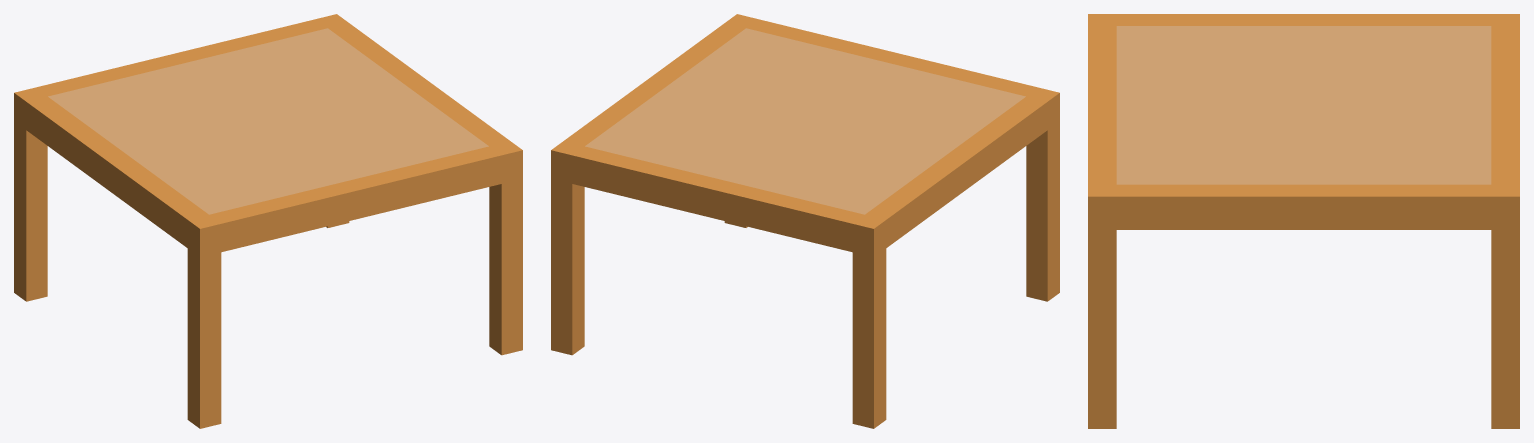
Rendered from Tisch.fbx.
3 renders of one model, left to right at view 1: azimuth 30°, elevation 25°; view 2: azimuth 150°, elevation 25°; view 3: azimuth 270°, elevation 25°, orthographic. The views are drawn at different scales.
Visible parts, largest first — view 1: Cube; view 2: Cube; view 3: Cube.
Part boxes in pixels (box(x1,y1,x2,y2)): Cube: box(14, 14, 522, 428); Cube: box(551, 14, 1059, 428); Cube: box(1088, 14, 1519, 428).
Size of the model in its own units: 598 by 354 by 597.
